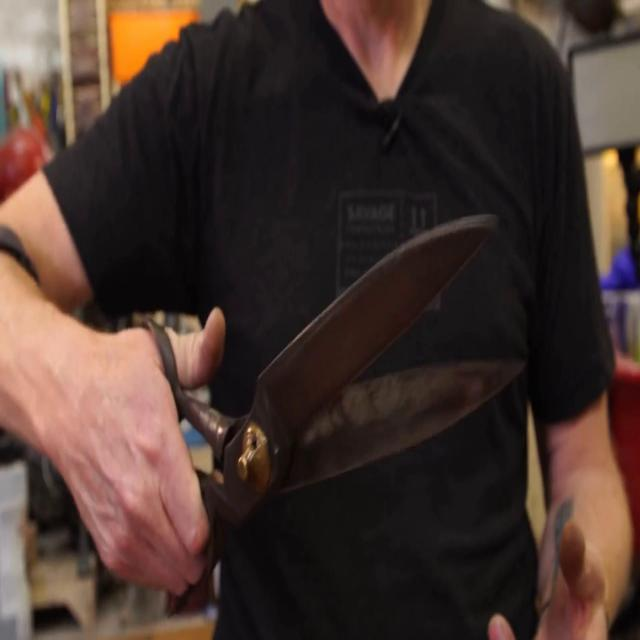scissor: (143, 213, 530, 612)
